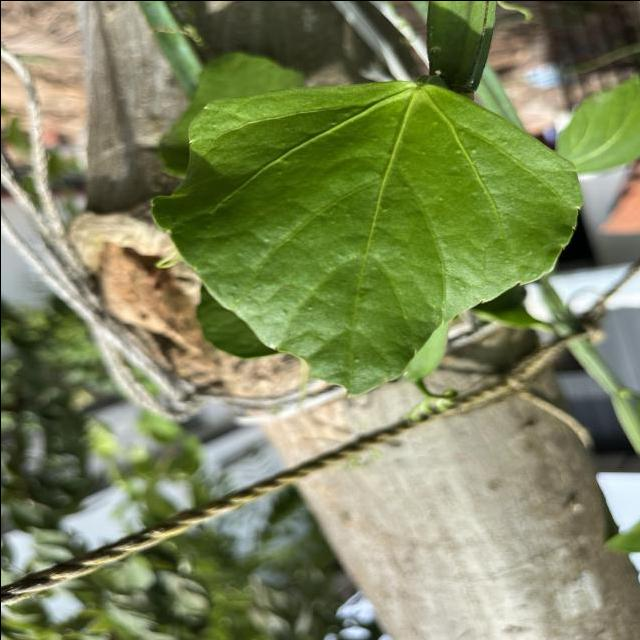Cissus quadrangularis: (141, 76, 587, 403)
